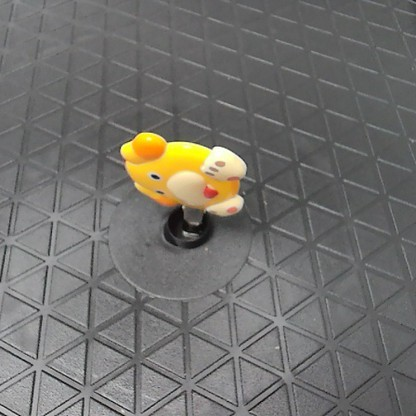dogclip: (114, 126, 248, 228)
